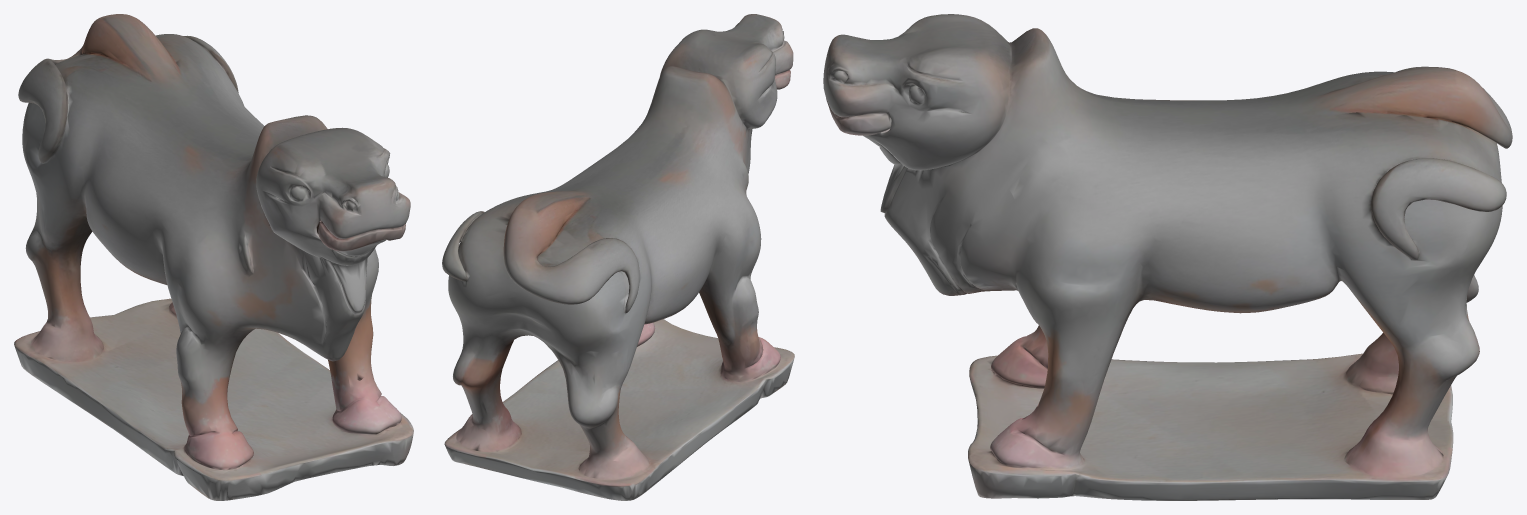
The picture shows the model from 3 angles, left to right: view 1: azimuth 30°, elevation 25°; view 2: azimuth 150°, elevation 25°; view 3: azimuth 270°, elevation 25°; orthographic projection. The views are drawn at different scales.
Visible parts, largest first — view 1: node_0; view 2: node_0; view 3: node_0.
Part boxes in pixels (x1,y1,x2,y2): node_0: (14,14,413,500); node_0: (442,14,794,500); node_0: (823,14,1512,500).
Size of the model in its own units: 0.4451 by 0.6848 by 1.03.
1 material, 1 textured.
